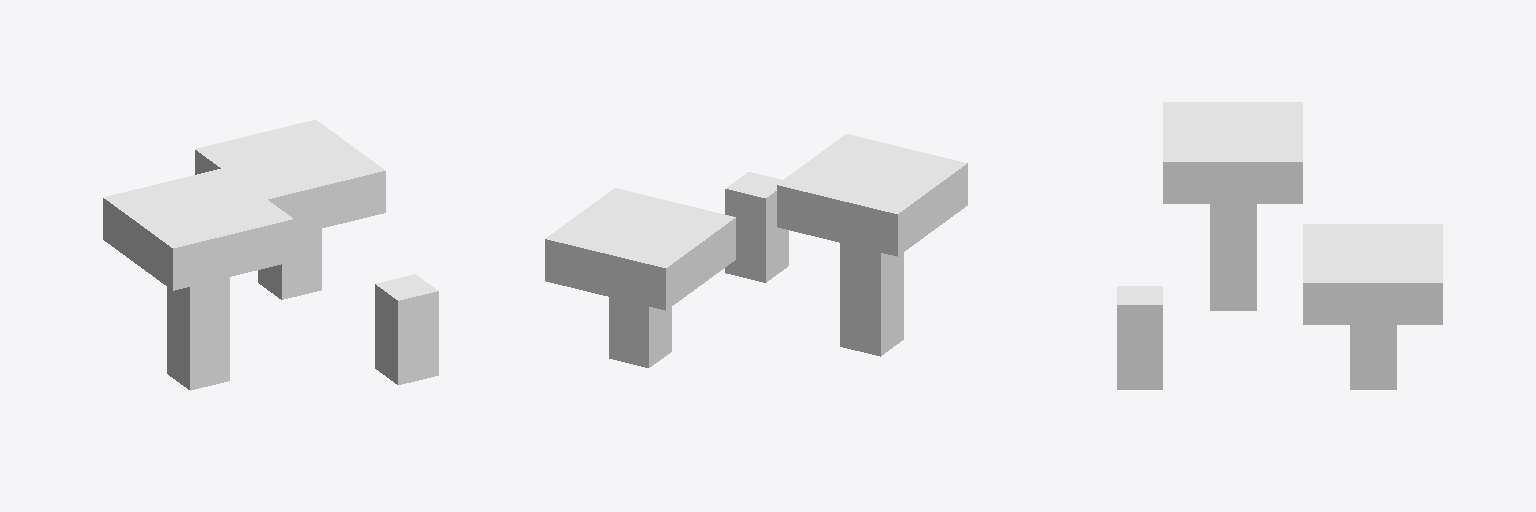
The model's file is Mushroom2.obj.
3 renders of one model, left to right at view 1: azimuth 30°, elevation 25°; view 2: azimuth 150°, elevation 25°; view 3: azimuth 270°, elevation 25°, orthographic.
Visible parts, largest first — view 1: Rat_and_Mushrooms.001; view 2: Rat_and_Mushrooms.001; view 3: Rat_and_Mushrooms.001.
Part boxes in pixels (x1,y1,x2,y2): Rat_and_Mushrooms.001: (103, 120, 438, 390); Rat_and_Mushrooms.001: (545, 134, 967, 367); Rat_and_Mushrooms.001: (1117, 102, 1442, 389).
Bounding box in the file's own units: 0.7 × 0.4 × 0.7.